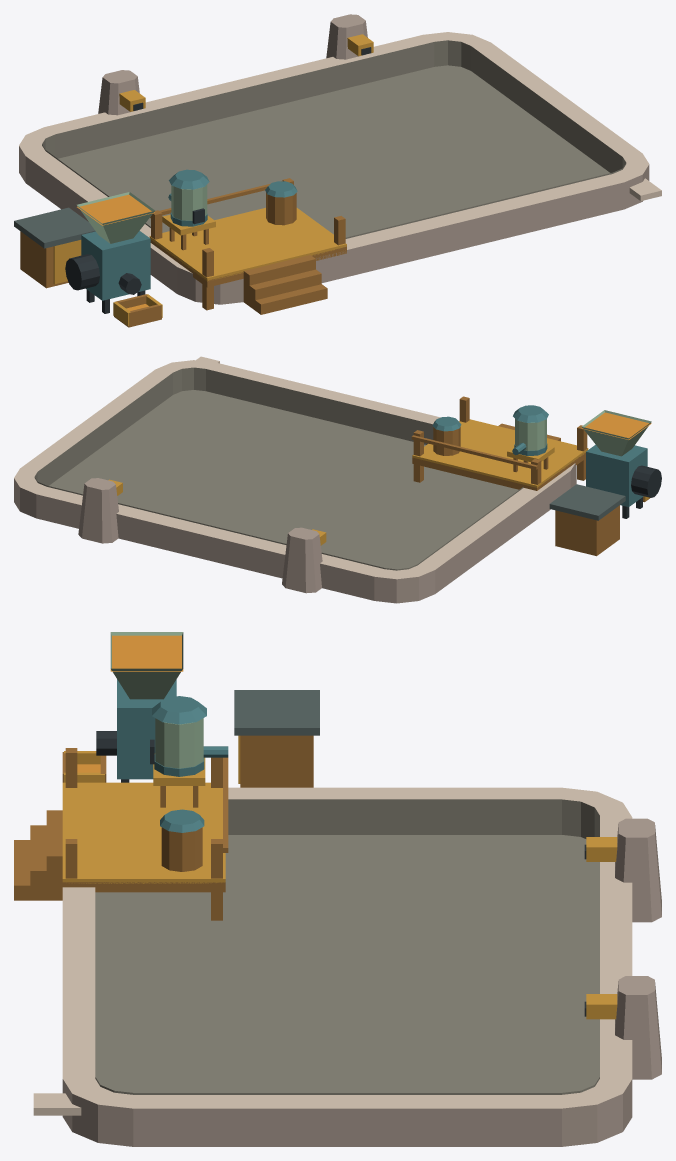
Rendered from FishPond_A_Lv3_Low.fbx.
3 views of the same model, one above another, from view 1: azimuth 30°, elevation 25°; view 2: azimuth 150°, elevation 25°; view 3: azimuth 270°, elevation 25° (orthographic). The views are drawn at different scales.
Parts seen in each view (by area): view 1: FishPond_A_Lv3_Low; view 2: FishPond_A_Lv3_Low; view 3: FishPond_A_Lv3_Low.
Part boxes in pixels (left/top/right/bottom): FishPond_A_Lv3_Low: left=14, top=14, right=661, bottom=327; FishPond_A_Lv3_Low: left=14, top=356, right=661, bottom=603; FishPond_A_Lv3_Low: left=14, top=632, right=661, bottom=1146.
Size of the model in its own units: 16.98 by 2.87 by 11.95.
